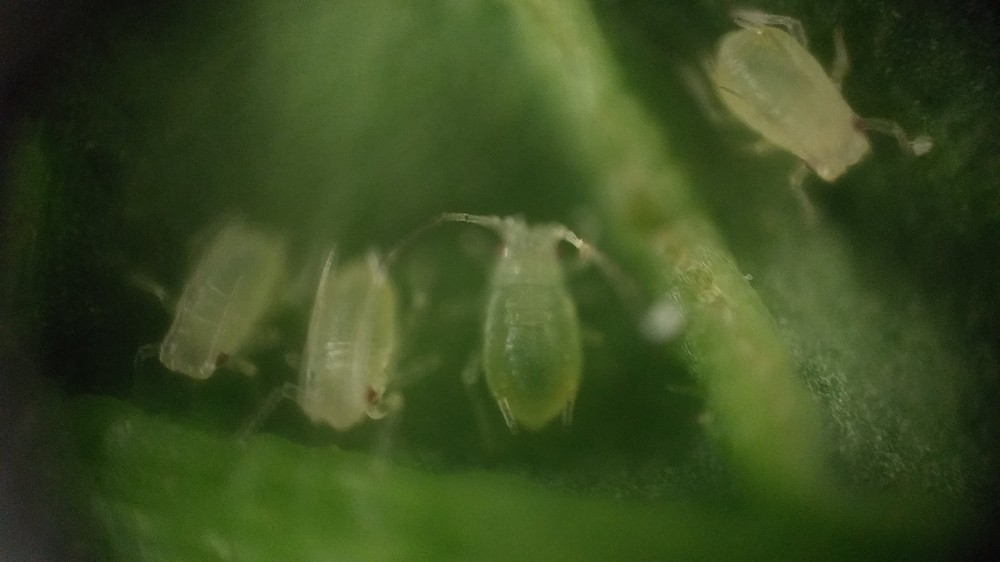Pulgon: (672, 4, 956, 235), (435, 195, 655, 453), (267, 225, 435, 465), (123, 193, 285, 409)
